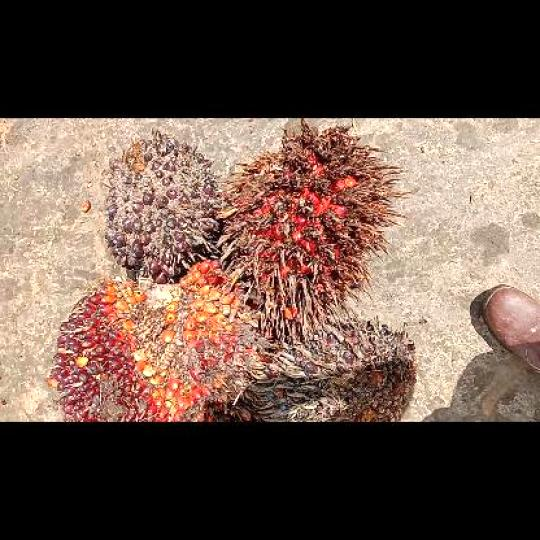kurang masak: (102, 131, 223, 282)
masak: (47, 260, 244, 420)
terlalu masak: (220, 118, 406, 331)
